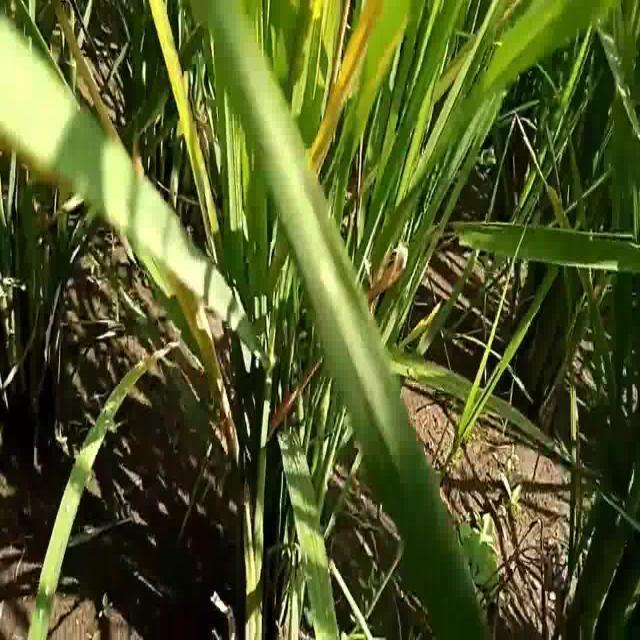Rice Tungro: (303, 1, 385, 180), (145, 3, 207, 193)
